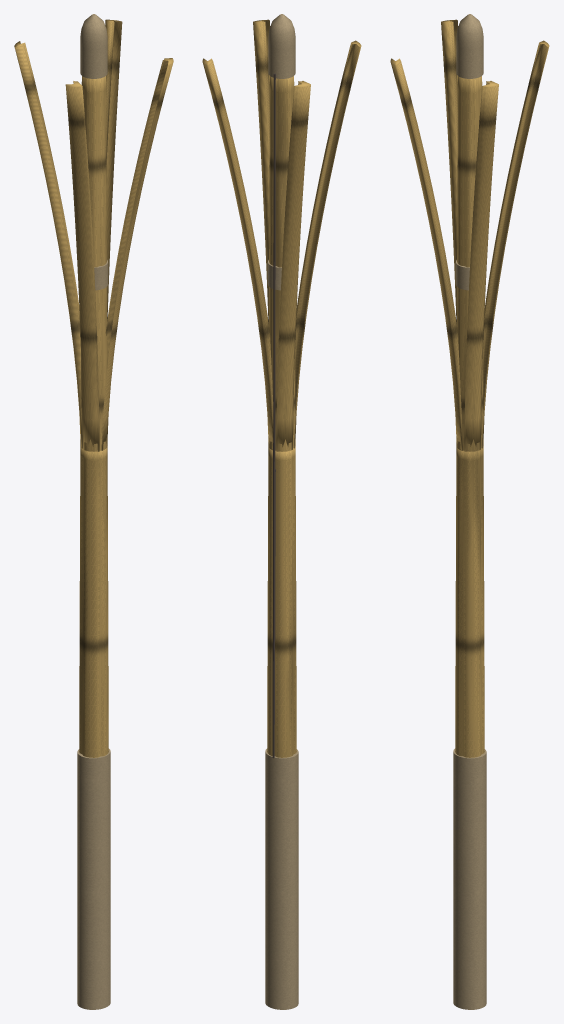
The model's file is kendo_stick.glb.
3 views of the same model, side by side, from view 1: azimuth 30°, elevation 25°; view 2: azimuth 150°, elevation 25°; view 3: azimuth 330°, elevation 25° (orthographic).
Visible parts, largest first — view 1: KendoStick_Broken, KendoStick_Clean_leather, KendoStick_Broken_bamboo, KendoStick_Clean_bamboo; view 2: KendoStick_Broken, KendoStick_Clean_leather, KendoStick_Broken_bamboo, KendoStick_Clean_bamboo, KendoStick_Clean_string; view 3: KendoStick_Broken, KendoStick_Clean_leather, KendoStick_Broken_bamboo, KendoStick_Clean_bamboo.
Part boxes in pixels (x1,y1,x2,y2): KendoStick_Broken: [14, 19, 173, 451]; KendoStick_Clean_leather: [77, 14, 110, 1009]; KendoStick_Broken_bamboo: [79, 446, 108, 757]; KendoStick_Clean_bamboo: [80, 76, 107, 451]; KendoStick_Broken: [202, 19, 361, 451]; KendoStick_Clean_leather: [265, 14, 298, 1009]; KendoStick_Broken_bamboo: [267, 446, 296, 757]; KendoStick_Clean_bamboo: [268, 76, 295, 451]; KendoStick_Clean_string: [272, 73, 275, 758]; KendoStick_Broken: [390, 19, 549, 451]; KendoStick_Clean_leather: [453, 14, 486, 1009]; KendoStick_Broken_bamboo: [455, 446, 484, 757]; KendoStick_Clean_bamboo: [456, 76, 483, 451].
Bounding box in the file's own units: 0.1254 × 1.1 × 0.1255.
Materials: 3 (2 with a texture image).
